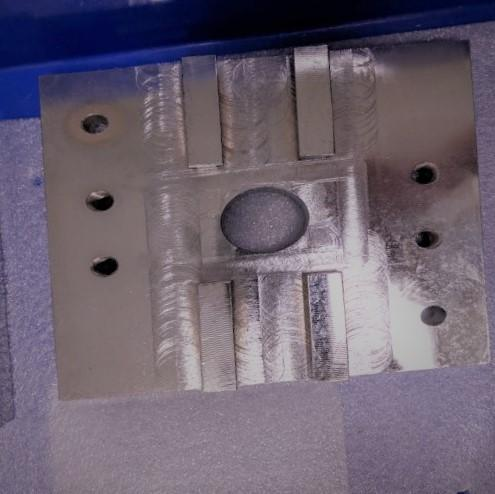hole: (78, 182, 122, 223), (72, 105, 117, 145), (402, 158, 444, 192), (84, 250, 125, 282), (414, 300, 456, 331), (413, 226, 447, 255)
